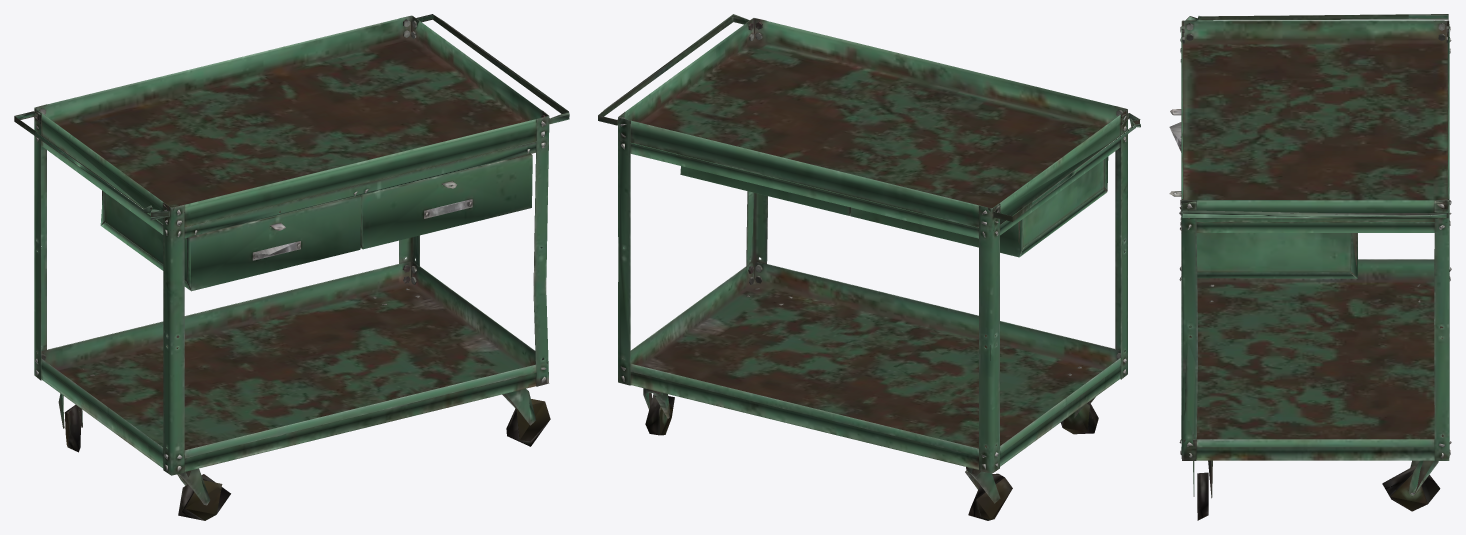
The model's file is toolcart.glb.
3 views of the same model, side by side, from view 1: azimuth 30°, elevation 25°; view 2: azimuth 150°, elevation 25°; view 3: azimuth 270°, elevation 25° (orthographic). The views are drawn at different scales.
Visible parts, largest first — view 1: tool_cart; view 2: tool_cart; view 3: tool_cart.
Boxes of the visible parts, x1,y1,x2,y2 form: tool_cart: [14, 14, 569, 520]; tool_cart: [598, 14, 1140, 520]; tool_cart: [1169, 14, 1451, 520].
Bounding box in the file's own units: 1.26 × 0.962 × 0.7521.
Materials: 1 (1 with a texture image).
